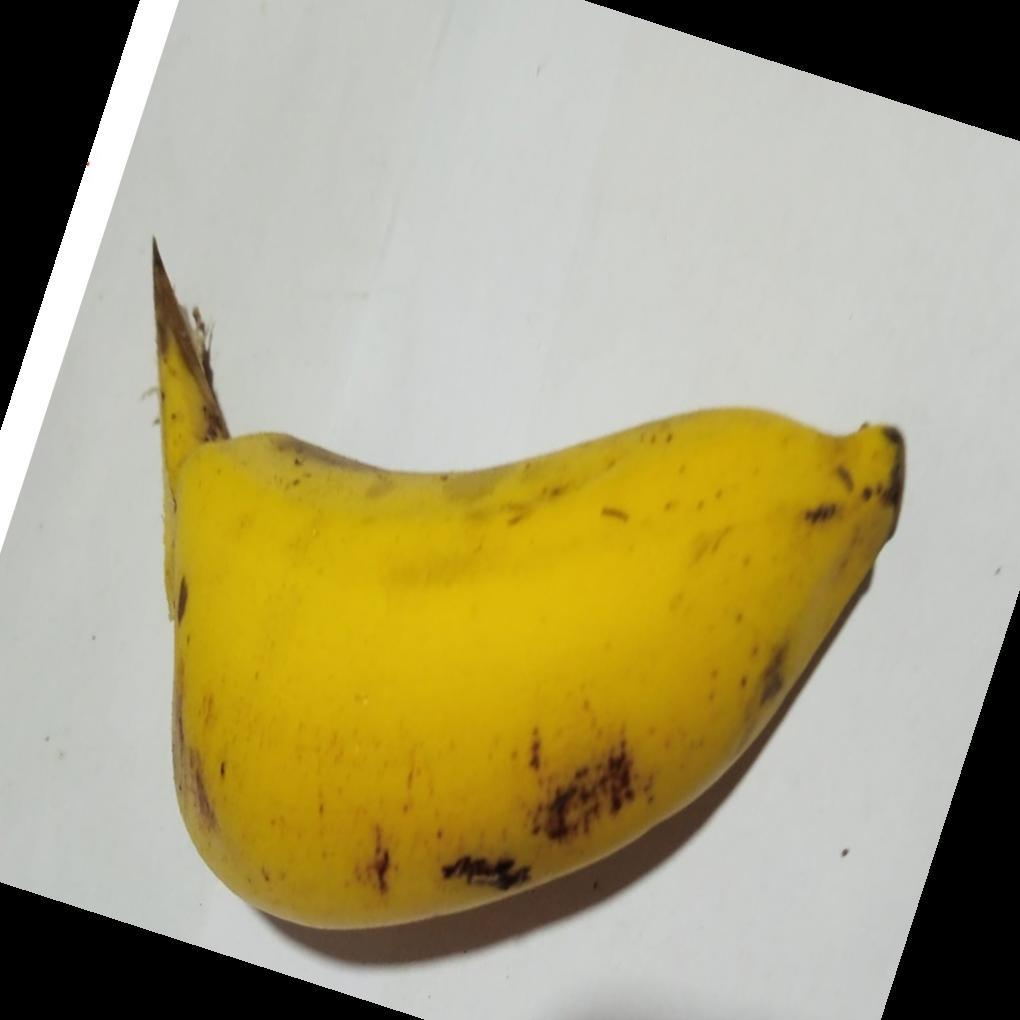Banana Ripe: (119, 250, 967, 946)
